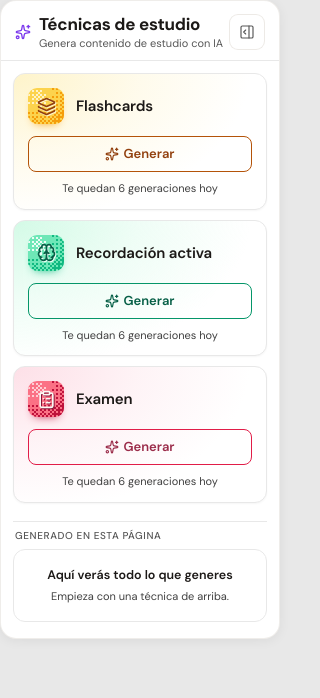
TechniquesPanel › flashcards (real data) › maps AI_PAGE_EMPTY to its Spanish message
Step 1. Click the button with test id "generate-flashcards" → (140, 154), box [28,136,252,172]
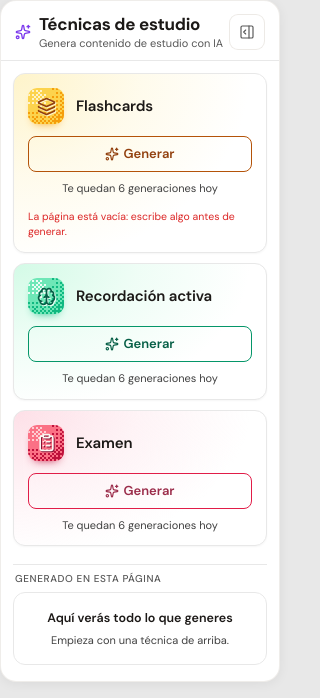
Result: the message with test id "generation-error" reads "La página está vacía: escribe algo antes de generar." at [28,210,235,238]
